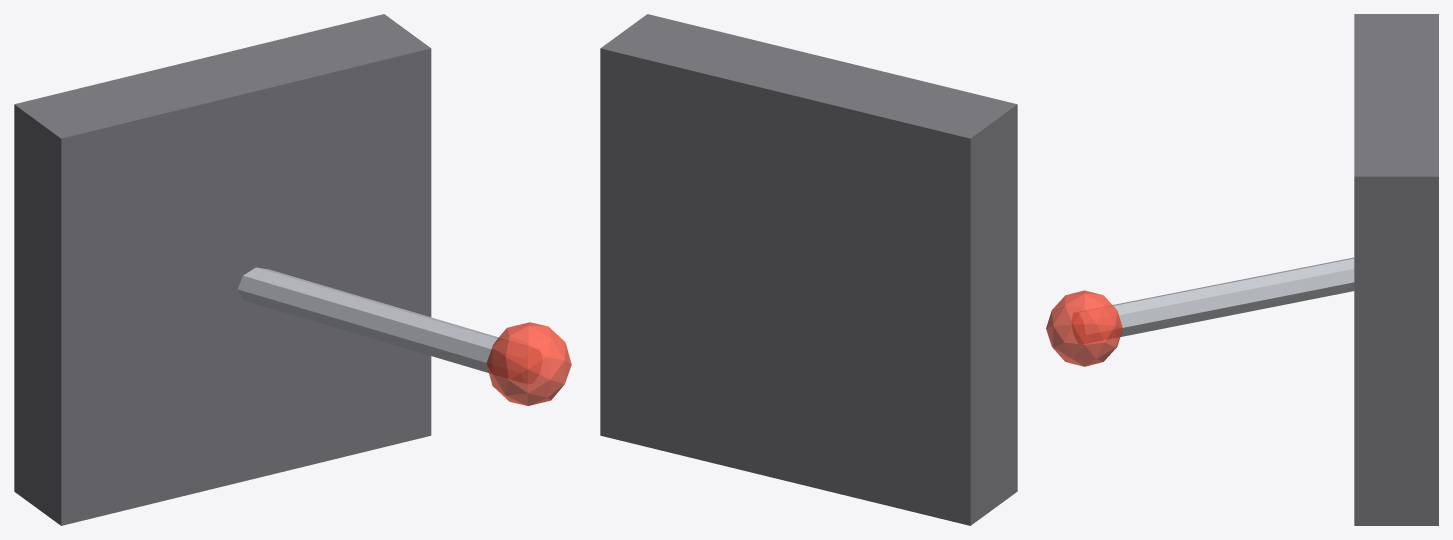
File: lever_switch_basic.glb
The picture shows the model from 3 angles, left to right: view 1: azimuth 30°, elevation 25°; view 2: azimuth 150°, elevation 25°; view 3: azimuth 270°, elevation 25°; orthographic projection. The views are drawn at different scales.
Visible parts, largest first — view 1: puzzle_base, lever, handle; view 2: puzzle_base; view 3: puzzle_base, lever, handle.
Part boxes in pixels (x1,y1,x2,y2): puzzle_base: [14, 14, 431, 525]; lever: [237, 267, 542, 383]; handle: [486, 322, 571, 405]; puzzle_base: [600, 14, 1017, 525]; puzzle_base: [1354, 14, 1438, 525]; lever: [1072, 257, 1354, 343]; handle: [1046, 290, 1122, 366].
Size of the model in its own units: 1 by 1 by 1.02.
